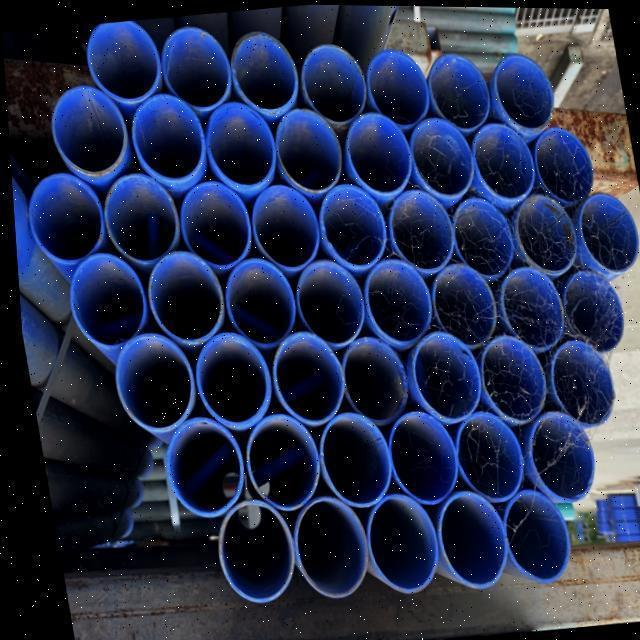pipe: (155, 419, 241, 522), (279, 500, 365, 602), (54, 256, 144, 352), (208, 502, 290, 607), (109, 334, 193, 434), (362, 493, 437, 594), (487, 491, 566, 585), (379, 409, 456, 505), (145, 252, 224, 345), (311, 409, 385, 508), (434, 490, 504, 592), (403, 329, 481, 420), (190, 338, 267, 430), (27, 175, 103, 268), (239, 414, 311, 511), (266, 337, 340, 430), (100, 174, 176, 264), (173, 177, 250, 265), (131, 96, 204, 186), (219, 259, 294, 346), (522, 410, 591, 503), (313, 183, 387, 269), (85, 21, 159, 107), (49, 84, 122, 171), (291, 255, 363, 343), (336, 341, 407, 430), (424, 256, 492, 348), (474, 334, 543, 424), (247, 181, 316, 270), (451, 414, 520, 502), (204, 105, 276, 189), (357, 257, 429, 340), (545, 338, 612, 427), (272, 109, 341, 194), (343, 113, 411, 199), (160, 23, 231, 104), (298, 42, 369, 122), (229, 27, 299, 108), (409, 117, 476, 201), (385, 188, 451, 270), (496, 266, 559, 351), (468, 123, 534, 204), (424, 52, 491, 130), (575, 189, 635, 276), (449, 196, 513, 277), (365, 50, 429, 131), (512, 193, 574, 276), (559, 265, 620, 348), (531, 124, 591, 206), (488, 50, 550, 128)
